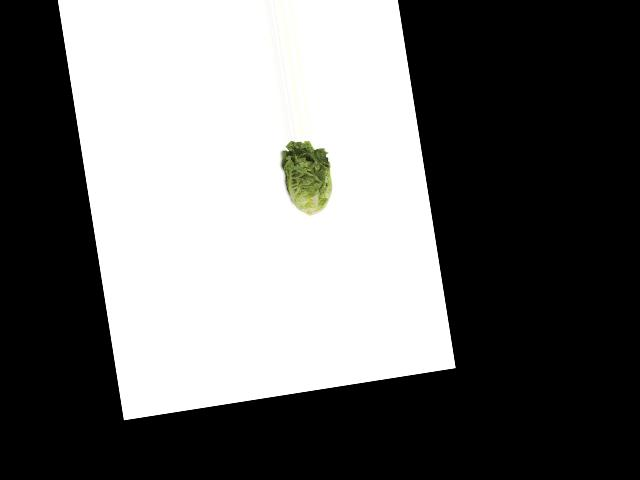lettuce: (275, 137, 341, 219)
